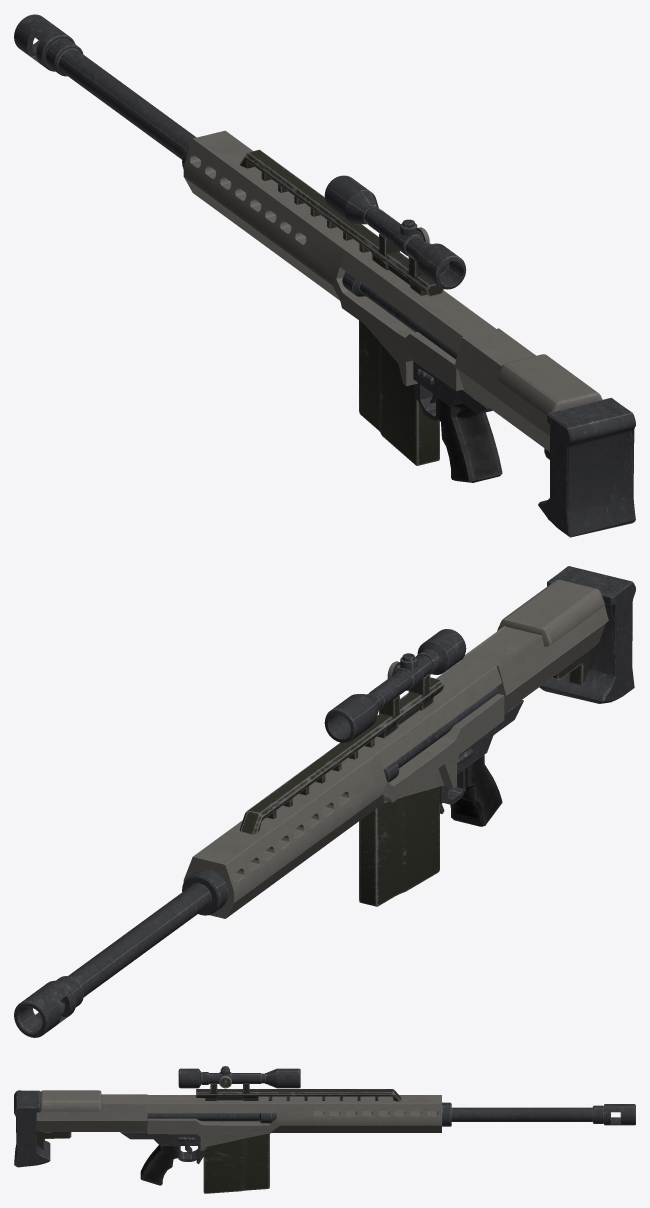
Rendered from sniper_m82.glb.
3 renders of one model, top to bottom at view 1: azimuth 30°, elevation 25°; view 2: azimuth 150°, elevation 25°; view 3: azimuth 270°, elevation 25°, orthographic. The views are drawn at different scales.
Visible parts, largest first — view 1: Object_3, Object_5, Object_4, Object_2; view 2: Object_3, Object_5, Object_4, Object_2; view 3: Object_3, Object_5, Object_4, Object_2.
Part boxes in pixels (x1,y1,x2,y2): Object_3: (183, 130, 602, 451); Object_5: (14, 14, 635, 537); Object_4: (240, 149, 549, 465); Object_2: (436, 396, 502, 482); Object_3: (183, 579, 608, 918); Object_5: (14, 566, 635, 1037); Object_4: (239, 651, 589, 906); Object_2: (450, 755, 502, 826); Object_3: (36, 1090, 441, 1150); Object_5: (14, 1066, 635, 1167); Object_4: (36, 1075, 401, 1193); Object_2: (140, 1145, 178, 1185).
Size of the model in its own units: 218 by 722 by 3288.
Materials: 4 (4 with a texture image).
